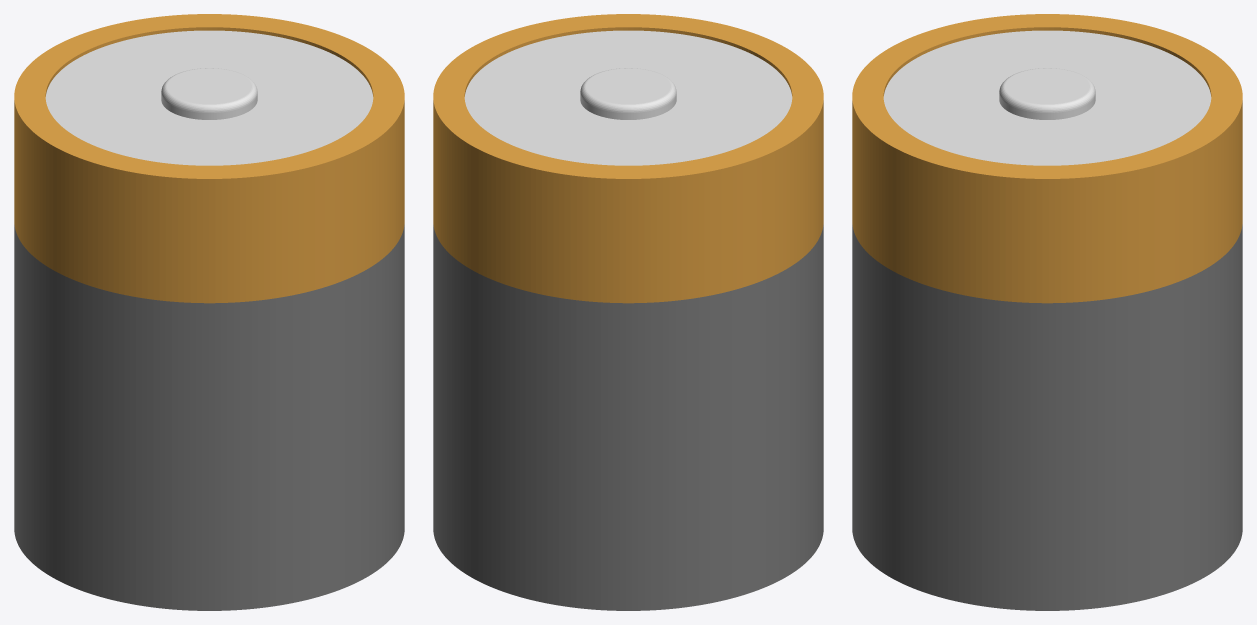
The model's file is Battery.fbx.
3 views of the same model, side by side, from view 1: azimuth 30°, elevation 25°; view 2: azimuth 150°, elevation 25°; view 3: azimuth 270°, elevation 25° (orthographic).
Visible parts, largest first — view 1: Cylinder; view 2: Cylinder; view 3: Cylinder.
Boxes of the visible parts, x1,y1,x2,y2 form: Cylinder: (14,14,404,610); Cylinder: (433,14,823,610); Cylinder: (852,14,1242,610).
Size of the model in its own units: 200 by 250 by 200.
